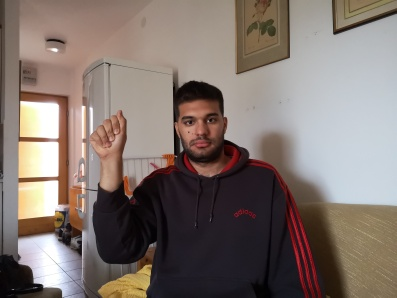A: (88, 109, 129, 158)
